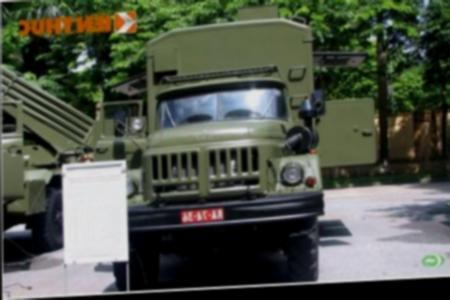License_Plate: (179, 205, 227, 226)
